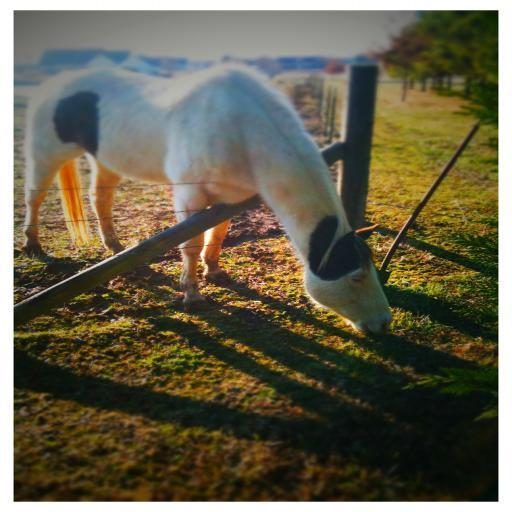horse: (23, 60, 401, 338)
